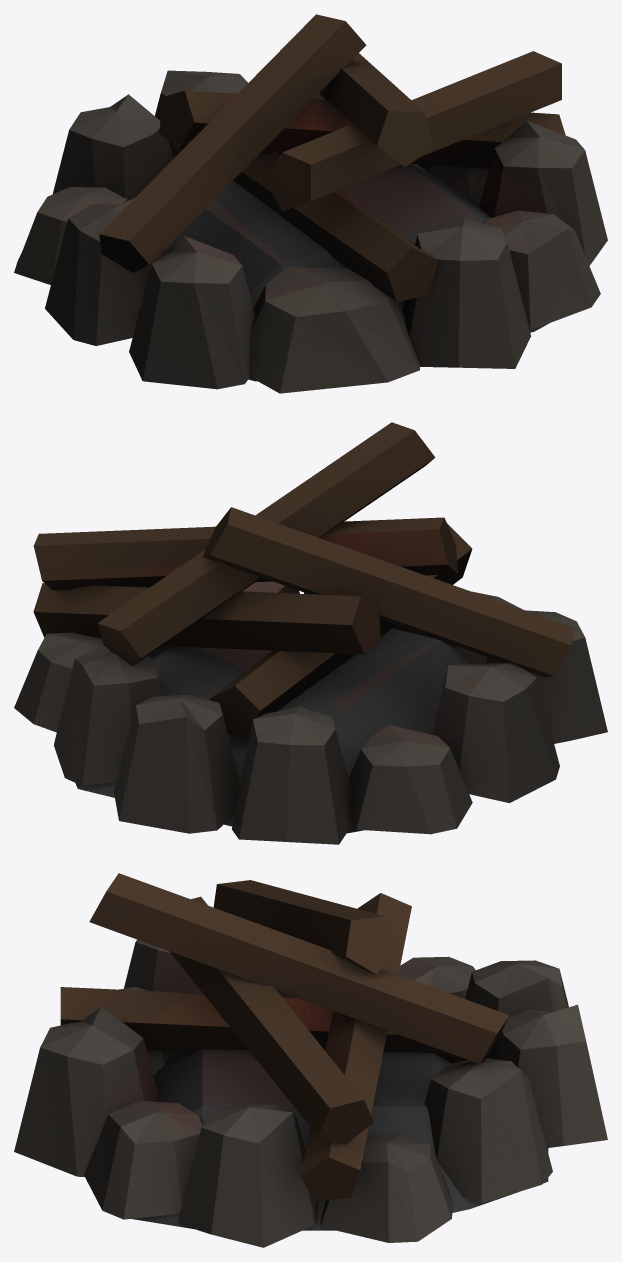
File: CAMPFIRE-MODEL-OFF (1).glb
3 views of the same model, one above another, from view 1: azimuth 30°, elevation 25°; view 2: azimuth 150°, elevation 25°; view 3: azimuth 270°, elevation 25° (orthographic). The views are drawn at different scales.
Parts seen in each view (by area): view 1: Camp_fire.001; view 2: Camp_fire.001; view 3: Camp_fire.001.
Boxes of the visible parts, left/top/right/bottom form: Camp_fire.001: left=14, top=14, right=607, bottom=393; Camp_fire.001: left=14, top=422, right=607, bottom=844; Camp_fire.001: left=14, top=873, right=607, bottom=1247.
Bounding box in the file's own units: 2.57 × 1.17 × 2.58.
1 material, 1 textured.
